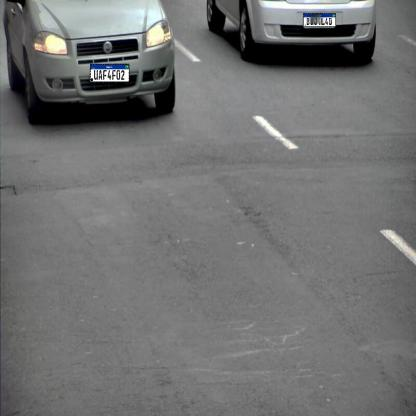PlacaM: (90, 64, 129, 82), (303, 13, 336, 27)
